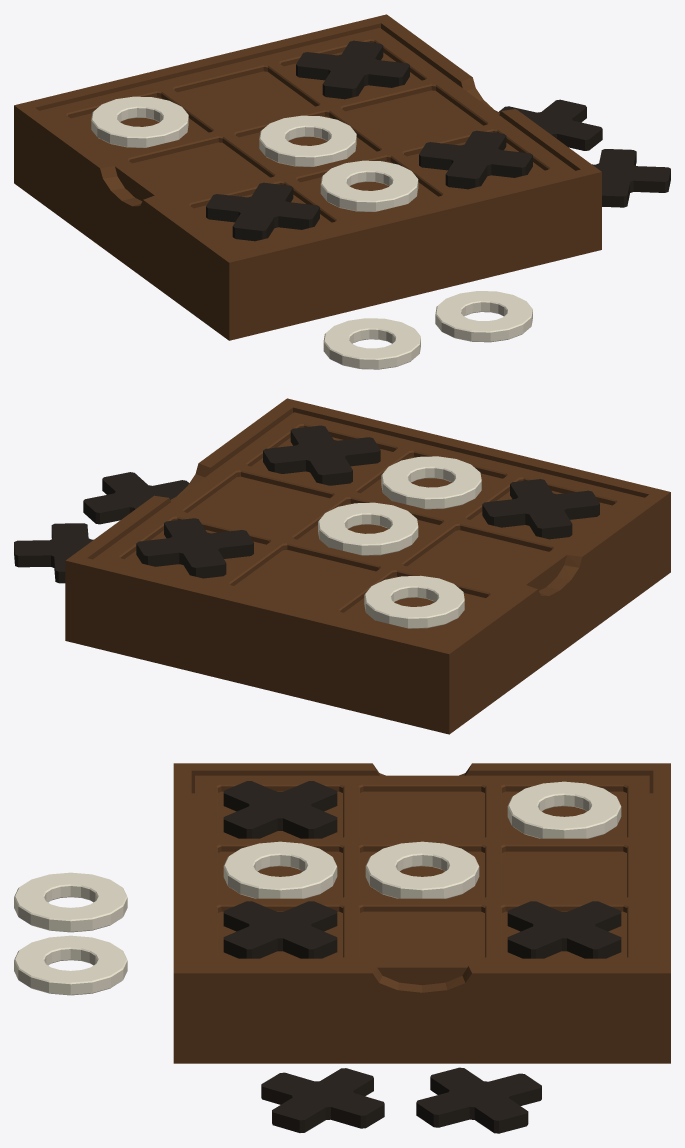
The picture shows the model from 3 angles, top to bottom: view 1: azimuth 30°, elevation 25°; view 2: azimuth 150°, elevation 25°; view 3: azimuth 270°, elevation 25°; orthographic projection. The views are drawn at different scales.
Parts seen in each view (by area): view 1: 01_Hollow_storage_base, 02_Removable_3x3_recess_board, X01_Solid_cross_token, X02_Solid_cross_token, X03_Solid_cross_token, O04_Ring_token, O05_Ring_token, O03_Ring_token, O01_Ring_token, O02_Ring_token, X04_Solid_cross_token, X05_Solid_cross_token; view 2: 01_Hollow_storage_base, 02_Removable_3x3_recess_board, X02_Solid_cross_token, X03_Solid_cross_token, X01_Solid_cross_token, O02_Ring_token, O03_Ring_token, O01_Ring_token, X04_Solid_cross_token, X05_Solid_cross_token; view 3: 01_Hollow_storage_base, 02_Removable_3x3_recess_board, X05_Solid_cross_token, X04_Solid_cross_token, X01_Solid_cross_token, X03_Solid_cross_token, X02_Solid_cross_token, O04_Ring_token, O05_Ring_token, O01_Ring_token, O03_Ring_token, O02_Ring_token.
Part boxes in pixels (<box>): 01_Hollow_storage_base: <box>14,14,601,340</box>; 02_Removable_3x3_recess_board: <box>40,28,574,253</box>; X01_Solid_cross_token: <box>296,40,409,99</box>; X02_Solid_cross_token: <box>206,182,319,241</box>; X03_Solid_cross_token: <box>419,130,532,189</box>; O04_Ring_token: <box>323,318,420,369</box>; O05_Ring_token: <box>435,291,532,342</box>; O03_Ring_token: <box>320,160,418,211</box>; O01_Ring_token: <box>91,96,188,147</box>; O02_Ring_token: <box>259,115,356,166</box>; X04_Solid_cross_token: <box>592,149,670,207</box>; X05_Solid_cross_token: <box>499,99,602,150</box>; 01_Hollow_storage_base: <box>65,398,670,734</box>; 02_Removable_3x3_recess_board: <box>93,412,644,644</box>; X02_Solid_cross_token: <box>482,479,599,539</box>; X03_Solid_cross_token: <box>263,425,380,485</box>; X01_Solid_cross_token: <box>136,518,253,578</box>; O02_Ring_token: <box>318,502,418,555</box>; O03_Ring_token: <box>381,456,481,509</box>; O01_Ring_token: <box>364,575,464,628</box>; X04_Solid_cross_token: <box>83,472,189,524</box>; X05_Solid_cross_token: <box>14,523,93,583</box>; 01_Hollow_storage_base: <box>173,763,670,1063</box>; 02_Removable_3x3_recess_board: <box>195,775,649,985</box>; X05_Solid_cross_token: <box>416,1067,541,1133</box>; X04_Solid_cross_token: <box>261,1068,384,1132</box>; X01_Solid_cross_token: <box>507,901,621,958</box>; X03_Solid_cross_token: <box>223,901,337,958</box>; X02_Solid_cross_token: <box>223,781,337,838</box>; O04_Ring_token: <box>14,872,127,932</box>; O05_Ring_token: <box>14,935,127,995</box>; O01_Ring_token: <box>507,781,621,838</box>; O03_Ring_token: <box>223,841,337,898</box>; O02_Ring_token: <box>365,841,479,898</box>.
Size of the model in its own units: 0.1867 by 0.029 by 0.185.
